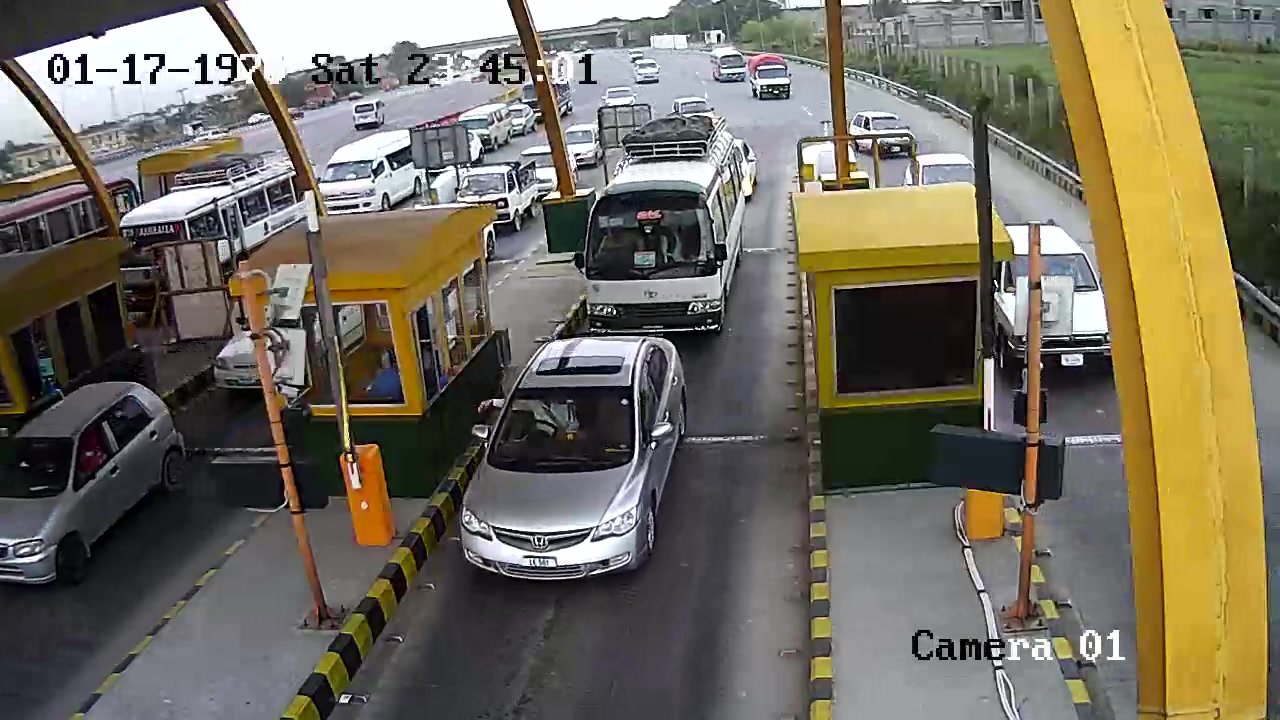F1: (451, 330, 702, 609)
